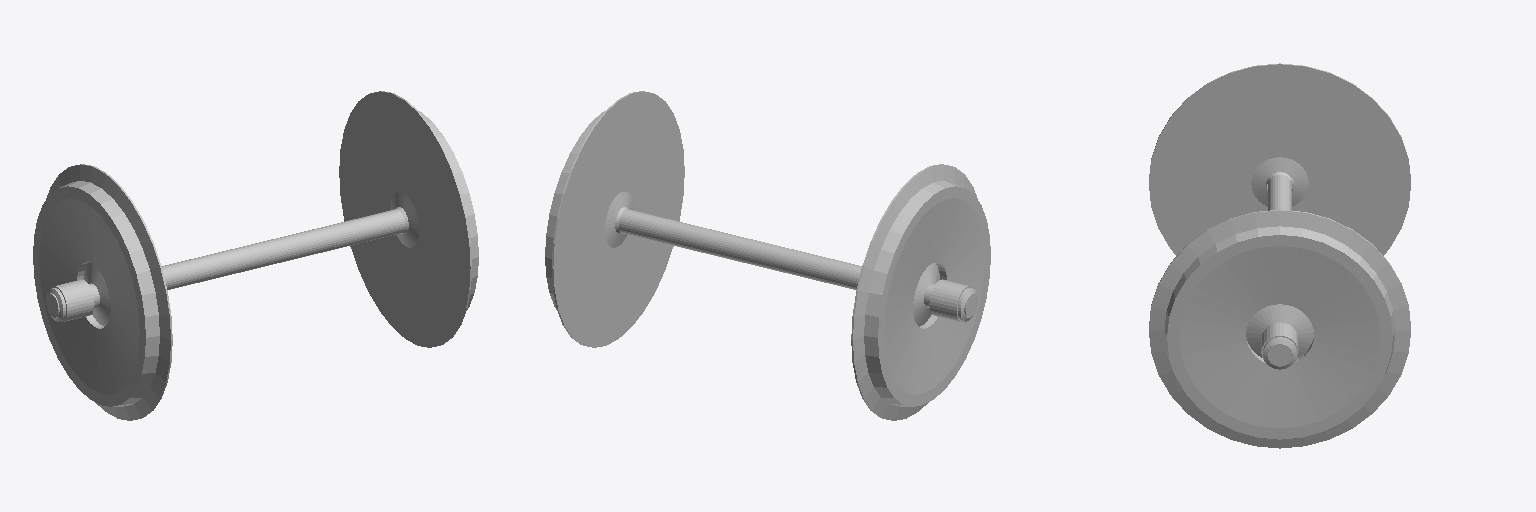
File: axle.obj
3 views of the same model, side by side, from view 1: azimuth 30°, elevation 25°; view 2: azimuth 150°, elevation 25°; view 3: azimuth 270°, elevation 25° (orthographic).
Visible parts, largest first — view 1: Cube.001_Cube.002; view 2: Cube.001_Cube.002; view 3: Cube.001_Cube.002.
Boxes of the visible parts, x1,y1,x2,y2 form: Cube.001_Cube.002: [33, 91, 478, 420]; Cube.001_Cube.002: [545, 91, 990, 420]; Cube.001_Cube.002: [1149, 63, 1410, 448].
Size of the model in its own units: 8.88 by 4.96 by 4.96.